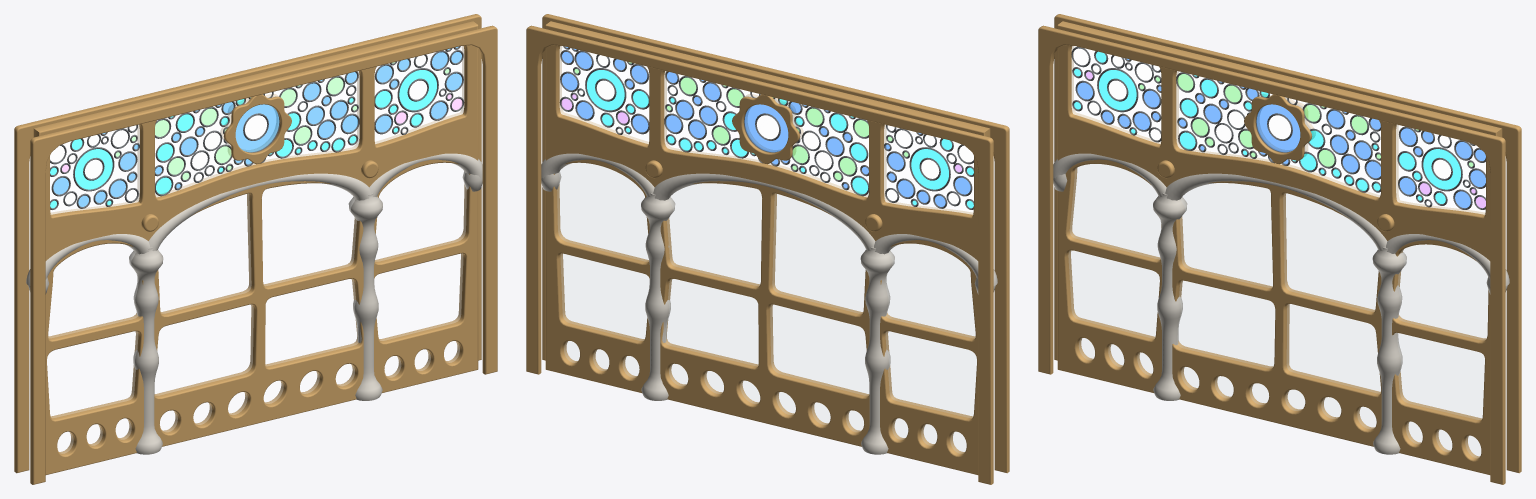
The model's file is batllo.glb.
3 views of the same model, side by side, from view 1: azimuth 30°, elevation 25°; view 2: azimuth 150°, elevation 25°; view 3: azimuth 330°, elevation 25° (orthographic).
Visible parts, largest first — view 1: Batllo_Verre.001, Batllo_Menuiserie.001, Batllo_Chambranle.001, Batllo_Pierre, Batllo_Chambranle.002, Batllo_Vitrail_Fond.001, Batllo_Plomb.001, Batllo_Cive_Bleu.001, Batllo_Cive_Turquoise.001, Batllo_Cive_Blanc.001, Batllo_Fleur.001, Batllo_Cive_Vert.001; view 2: Batllo_Verre.001, Batllo_Menuiserie.001, Batllo_Chambranle.002, Batllo_Pierre, Batllo_Chambranle.001, Batllo_Vitrail_Fond.001, Batllo_Plomb.001, Batllo_Cive_Bleu.001, Batllo_Cive_Turquoise.001, Batllo_Cive_Blanc.001, Batllo_Fleur.002, Batllo_Cive_Vert.001; view 3: Batllo_Verre.001, Batllo_Menuiserie.001, Batllo_Chambranle.001, Batllo_Pierre, Batllo_Chambranle.002, Batllo_Vitrail_Fond.001, Batllo_Plomb.001, Batllo_Cive_Bleu.001, Batllo_Cive_Turquoise.001, Batllo_Cive_Blanc.001, Batllo_Fleur.001, Batllo_Cive_Vert.001.
Boxes of the visible parts, x1,y1,x2,y2 form: Batllo_Verre.001: (47, 163, 466, 453); Batllo_Menuiserie.001: (33, 21, 478, 474); Batllo_Chambranle.001: (30, 25, 497, 484); Batllo_Pierre: (26, 153, 482, 454); Batllo_Chambranle.002: (14, 14, 481, 473); Batllo_Vitrail_Fond.001: (50, 46, 464, 214); Batllo_Plomb.001: (50, 46, 464, 209); Batllo_Cive_Bleu.001: (53, 46, 461, 206); Batllo_Cive_Turquoise.001: (50, 70, 436, 208); Batllo_Cive_Blanc.001: (50, 55, 444, 204); Batllo_Fleur.001: (223, 94, 291, 164); Batllo_Cive_Vert.001: (115, 62, 449, 179); Batllo_Verre.001: (557, 163, 976, 453); Batllo_Menuiserie.001: (545, 21, 990, 474); Batllo_Chambranle.002: (526, 25, 993, 484); Batllo_Pierre: (541, 153, 997, 454); Batllo_Chambranle.001: (542, 14, 1009, 473); Batllo_Vitrail_Fond.001: (559, 46, 973, 214); Batllo_Plomb.001: (559, 46, 973, 209); Batllo_Cive_Bleu.001: (562, 46, 970, 206); Batllo_Cive_Turquoise.001: (587, 70, 973, 208); Batllo_Cive_Blanc.001: (579, 55, 973, 204); Batllo_Fleur.002: (732, 94, 800, 164); Batllo_Cive_Vert.001: (574, 62, 908, 179); Batllo_Verre.001: (1068, 164, 1487, 457); Batllo_Menuiserie.001: (1057, 21, 1502, 474); Batllo_Chambranle.001: (1038, 25, 1505, 484); Batllo_Pierre: (1053, 153, 1509, 454); Batllo_Chambranle.002: (1054, 14, 1521, 473); Batllo_Vitrail_Fond.001: (1071, 46, 1485, 214); Batllo_Plomb.001: (1071, 46, 1485, 209); Batllo_Cive_Bleu.001: (1077, 58, 1485, 208); Batllo_Cive_Turquoise.001: (1074, 51, 1460, 203); Batllo_Cive_Blanc.001: (1073, 48, 1468, 205); Batllo_Fleur.001: (1244, 94, 1312, 164); Batllo_Cive_Vert.001: (1139, 74, 1473, 166).
Size of the model in its own units: 6.35 by 4.5 by 0.4598.
